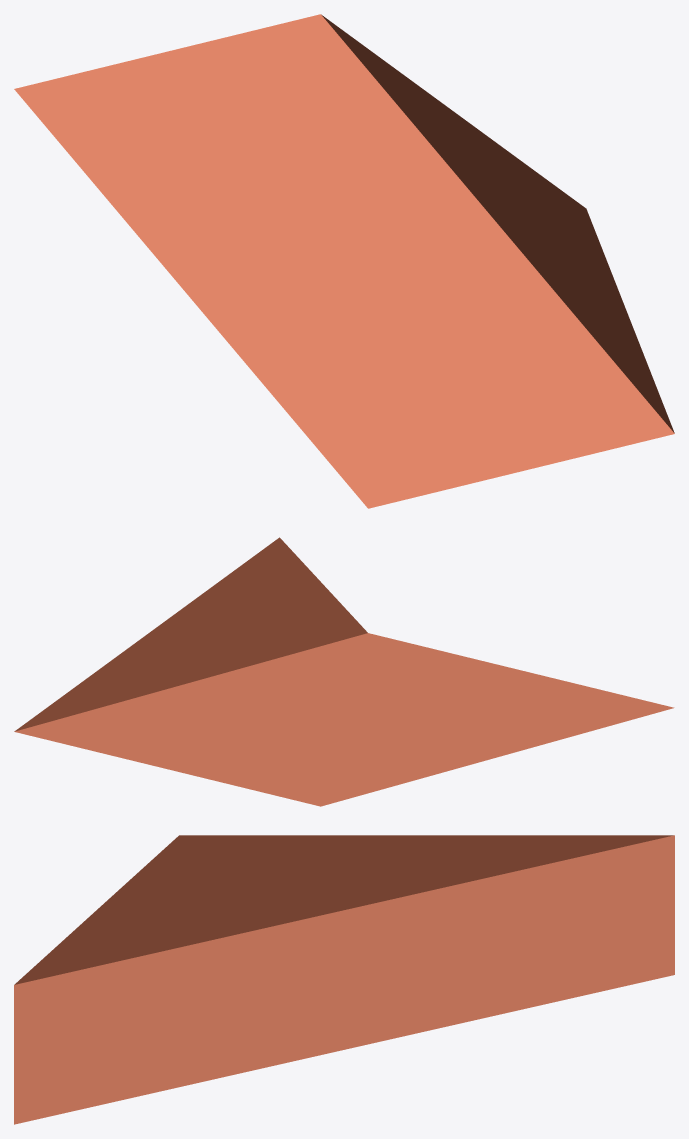
File: terrain_rampLarge.glb
The picture shows the model from 3 angles, top to bottom: view 1: azimuth 30°, elevation 25°; view 2: azimuth 150°, elevation 25°; view 3: azimuth 270°, elevation 25°; orthographic projection. The views are drawn at different scales.
Parts seen in each view (by area): view 1: terrain_rampLarge; view 2: terrain_rampLarge; view 3: terrain_rampLarge.
Boxes of the visible parts, x1,y1,x2,y2 form: terrain_rampLarge: (14,14,674,508); terrain_rampLarge: (14,537,674,806); terrain_rampLarge: (14,835,674,1124).
Size of the model in its own units: 1 by 0.5 by 2.
